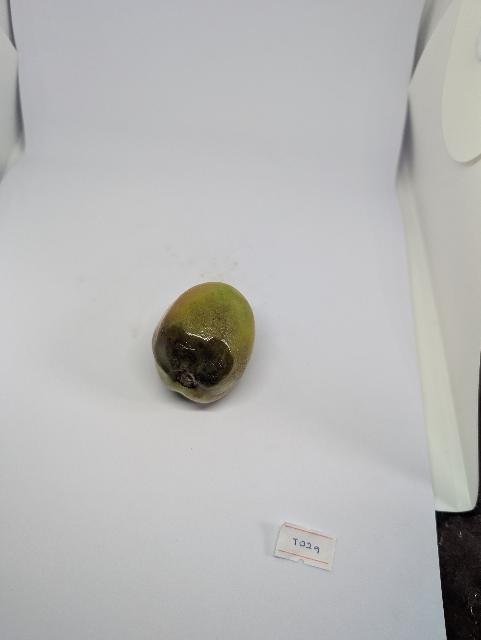defect: (147, 279, 264, 411)
